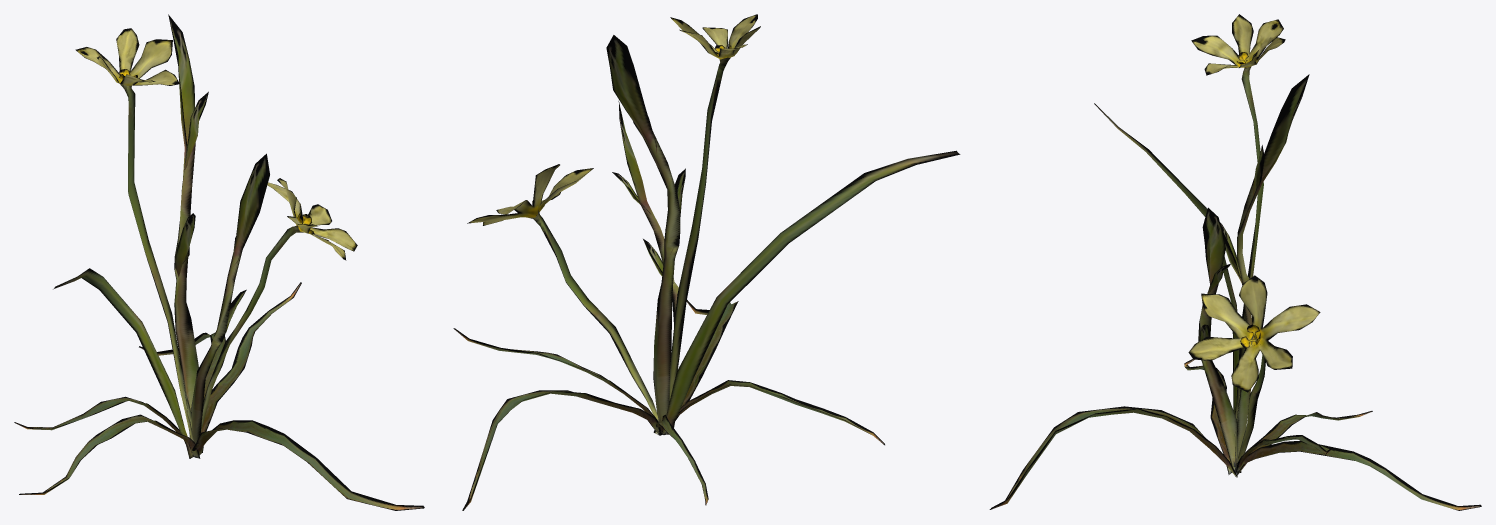
File: ph-blume-empodium-b.glb
3 views of the same model, side by side, from view 1: azimuth 30°, elevation 25°; view 2: azimuth 150°, elevation 25°; view 3: azimuth 270°, elevation 25° (orthographic). The views are drawn at different scales.
Visible parts, largest first — view 1: flower_empodium_b_LOD0; view 2: flower_empodium_b_LOD0; view 3: flower_empodium_b_LOD0.
Part boxes in pixels (x1=…): flower_empodium_b_LOD0: x1=14, y1=14, x2=424, y2=510; flower_empodium_b_LOD0: x1=453, y1=14, x2=960, y2=510; flower_empodium_b_LOD0: x1=989, y1=14, x2=1481, y2=510.
Bounding box in the file's own units: 0.1815 × 0.1905 × 0.2047.
Materials: 1 (1 with a texture image).
